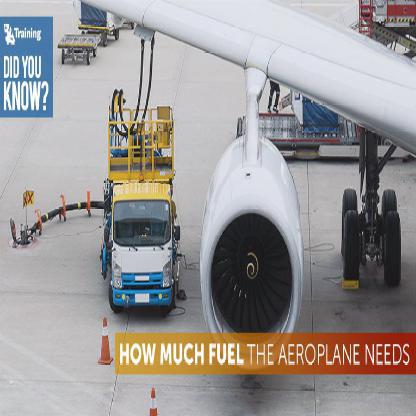CIV_Plane: (80, 0, 416, 381)
